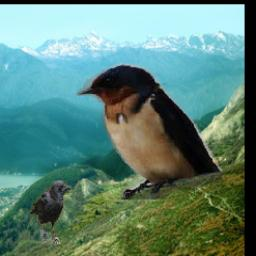Crow: (30, 180, 72, 244)
Swallow: (77, 63, 222, 199)
